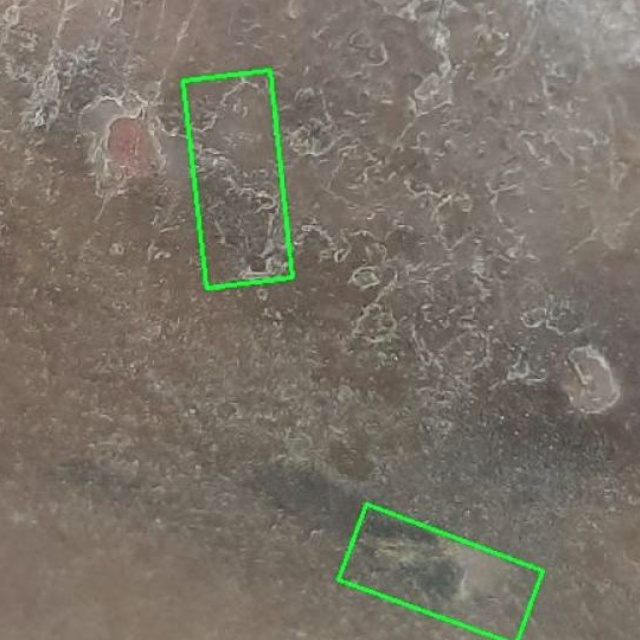Eczema: (339, 505, 543, 639), (183, 71, 293, 288)
